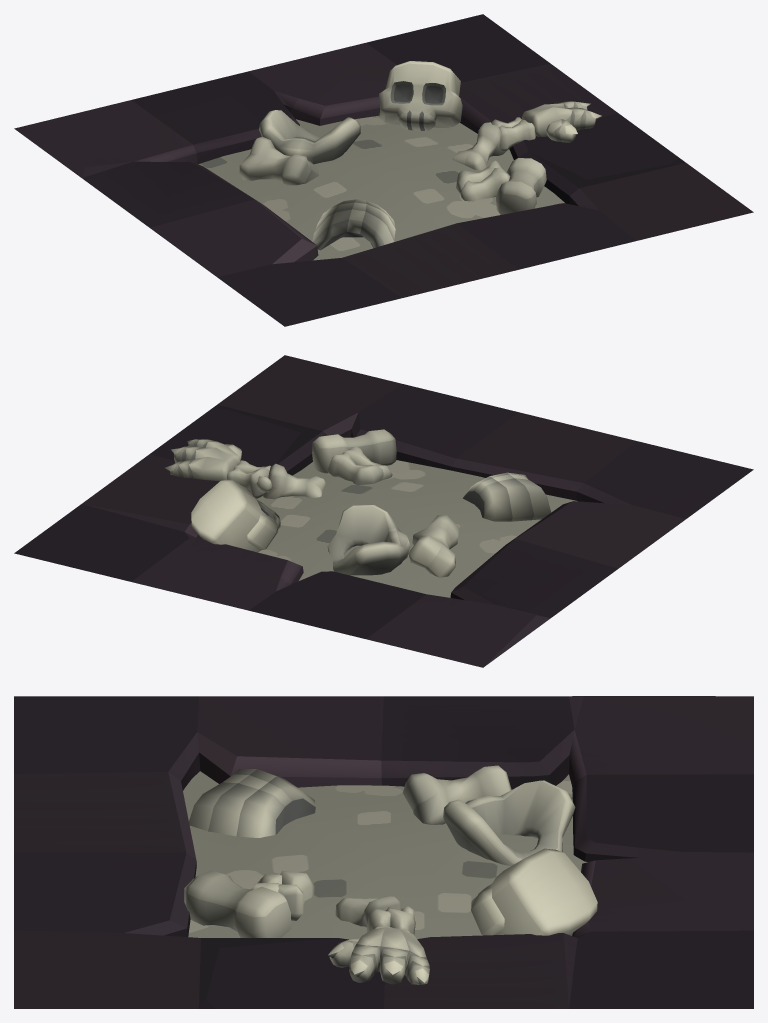
The model's file is floor_bone_pit.fbx.
3 renders of one model, top to bottom at view 1: azimuth 30°, elevation 25°; view 2: azimuth 150°, elevation 25°; view 3: azimuth 270°, elevation 25°, orthographic. The views are drawn at different scales.
Parts seen in each view (by area): view 1: floor_bone_pit, floor_bone_pit_bone_texture; view 2: floor_bone_pit, floor_bone_pit_bone_texture; view 3: floor_bone_pit, floor_bone_pit_bone_texture.
Part boxes in pixels (x1=…): floor_bone_pit: x1=14, y1=14, x2=753, y2=326; floor_bone_pit_bone_texture: x1=198, y1=115, x2=564, y2=260; floor_bone_pit: x1=14, y1=355, x2=753, y2=667; floor_bone_pit_bone_texture: x1=255, y1=460, x2=577, y2=597; floor_bone_pit: x1=14, y1=696, x2=753, y2=1008; floor_bone_pit_bone_texture: x1=183, y1=771, x2=587, y2=939.
Bounding box in the file's own units: 400 × 67.58 × 400.
